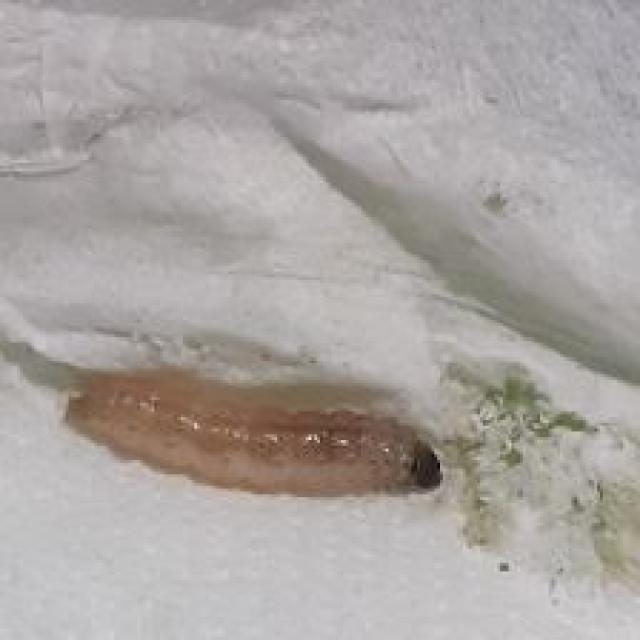white mucus: (45, 361, 454, 500)
